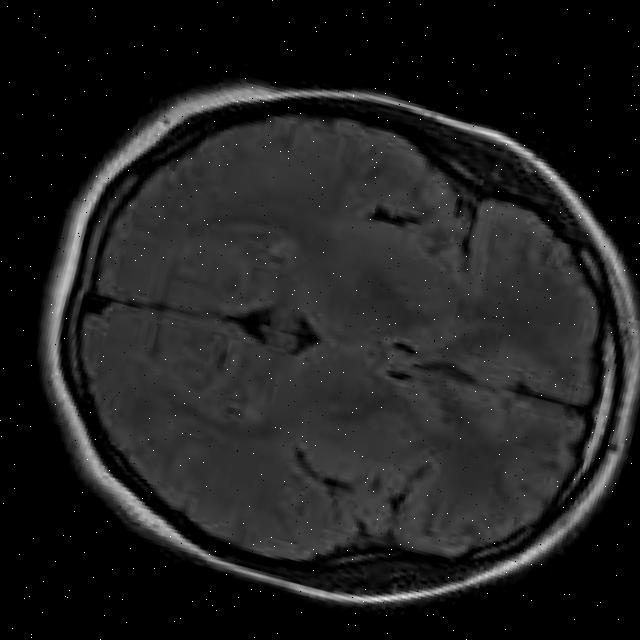NoTumor: (1, 18, 640, 640)
